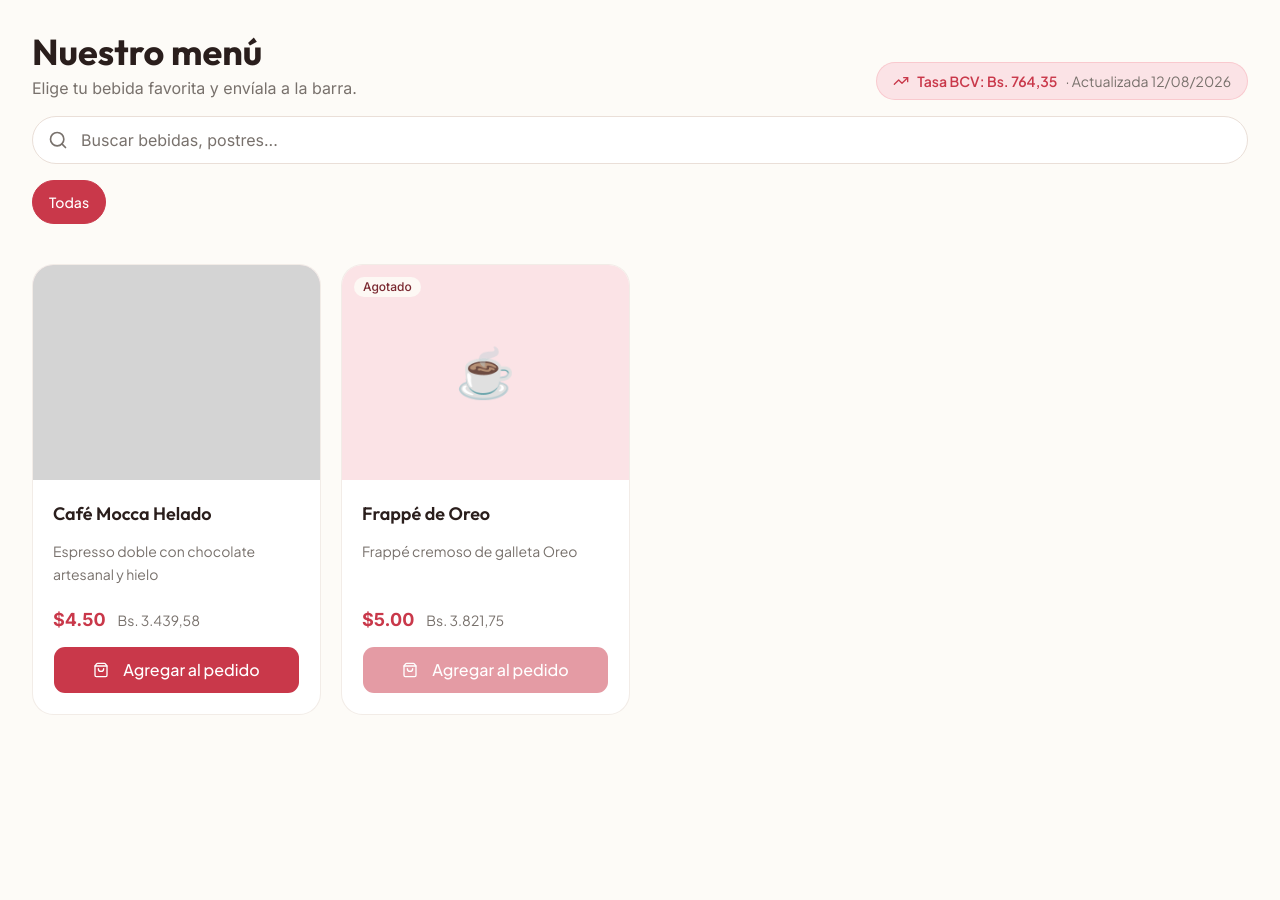
Scenario: CatalogoCliente › filtra productos por búsqueda
Type "oreo" into the search field at x=640, y=140, box [32,116,1248,164]
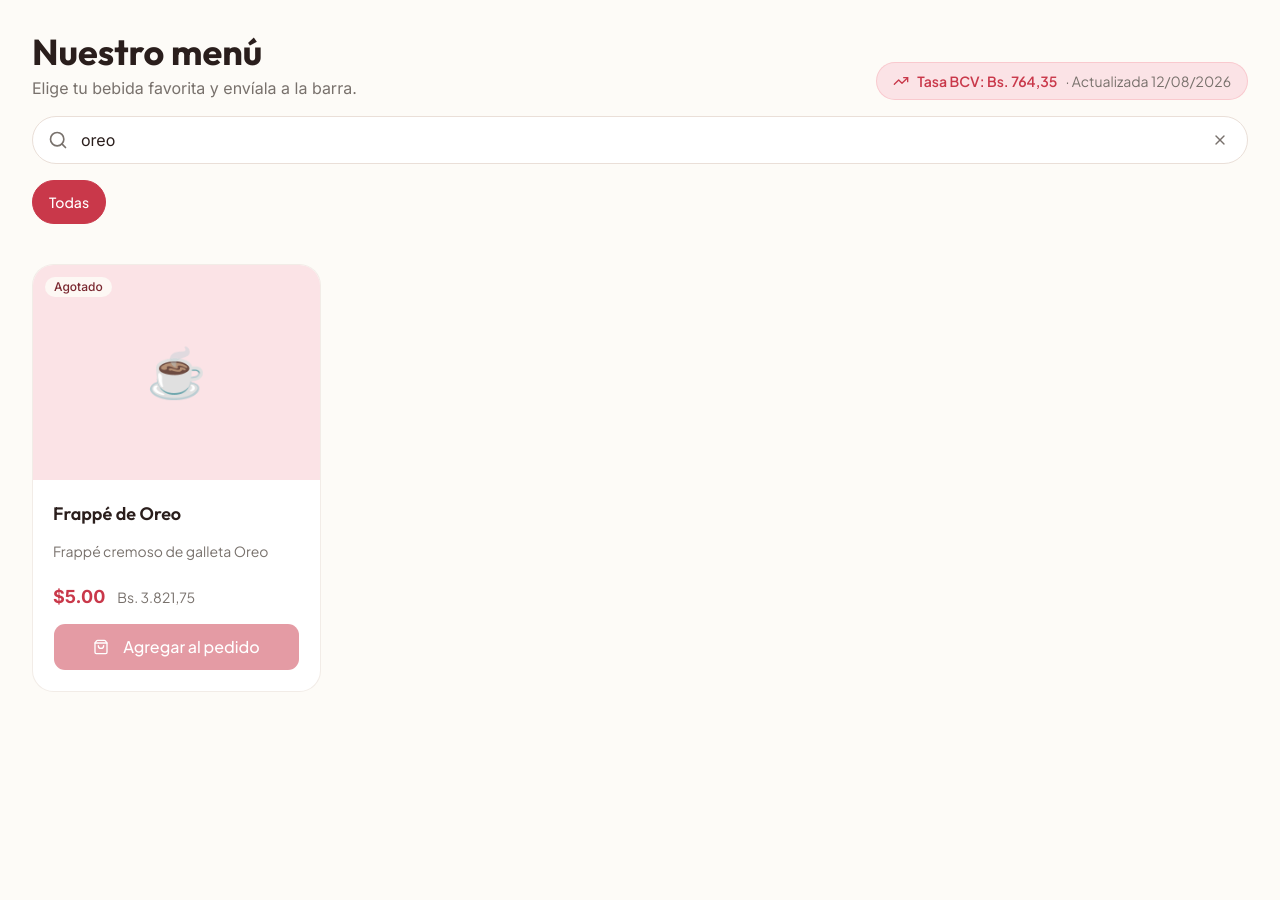
Check: the heading "Frappé de Oreo" is shown, box [53,502,181,525]
Check: the heading "Café Mocca Helado" is gone
